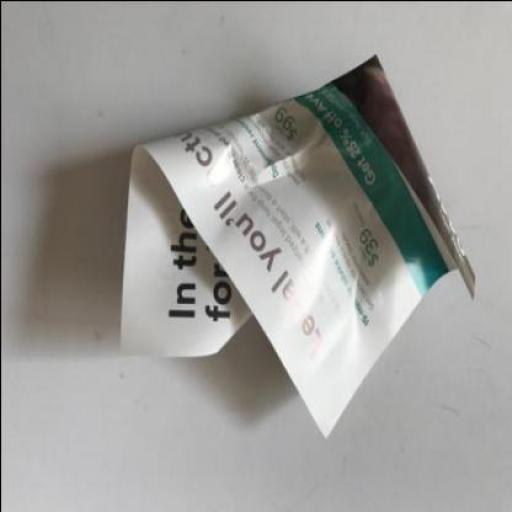paper: (121, 49, 475, 441)
